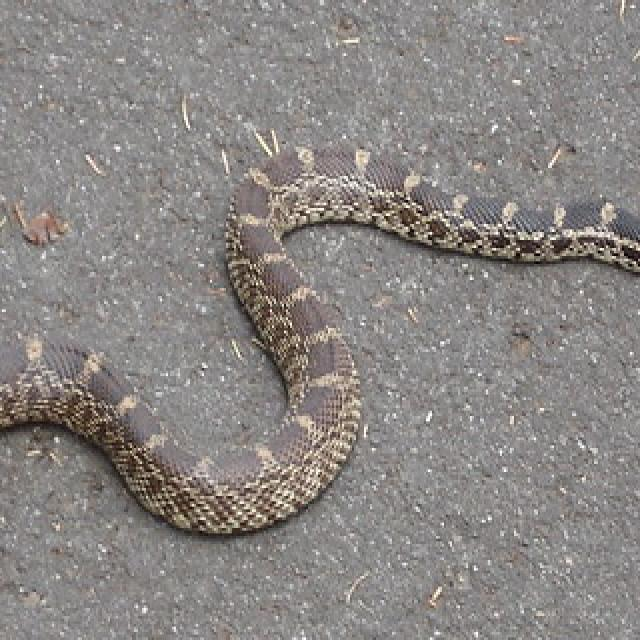Snake: (0, 133, 640, 640)
